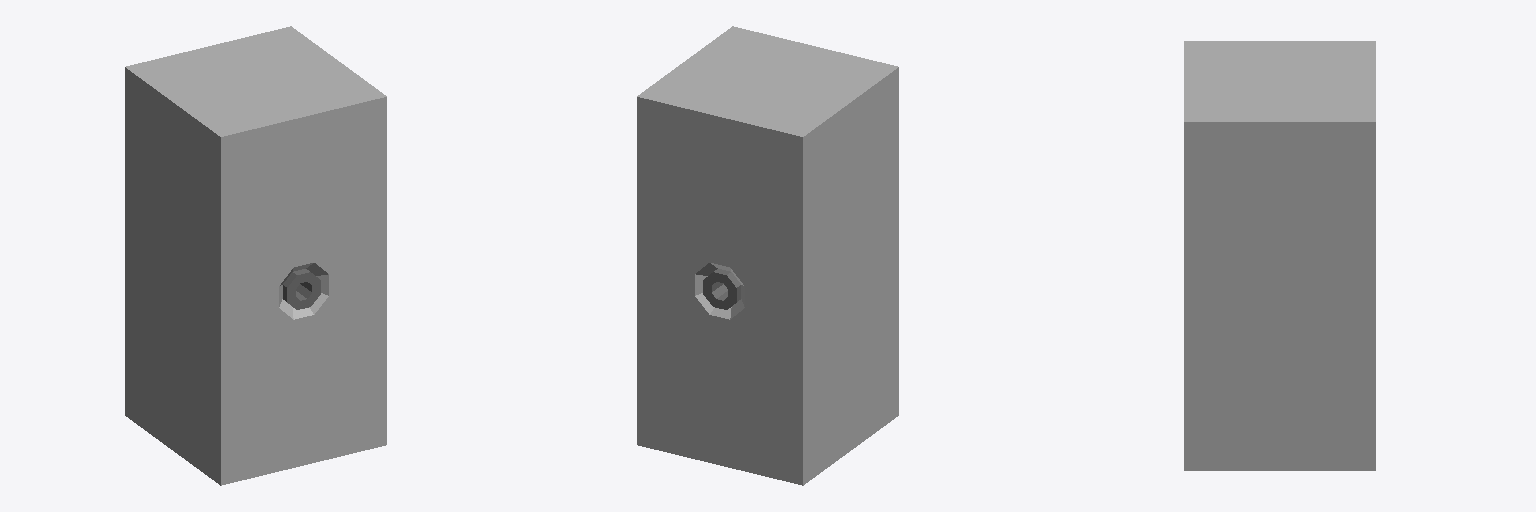
The model's file is trap_pillar_pipe.obj.
3 renders of one model, left to right at view 1: azimuth 30°, elevation 25°; view 2: azimuth 150°, elevation 25°; view 3: azimuth 270°, elevation 25°, orthographic.
Visible parts, largest first — view 1: trap_pillar_pipe_2, trap_pillar_pipe; view 2: trap_pillar_pipe_2, trap_pillar_pipe; view 3: trap_pillar_pipe_2.
Part boxes in pixels (bbox=[...]): trap_pillar_pipe_2: bbox=[125, 26, 386, 485]; trap_pillar_pipe: bbox=[283, 269, 320, 309]; trap_pillar_pipe_2: bbox=[637, 26, 898, 485]; trap_pillar_pipe: bbox=[703, 269, 740, 309]; trap_pillar_pipe_2: bbox=[1184, 41, 1375, 470].
Size of the model in its own units: 0.5 by 1 by 0.5.